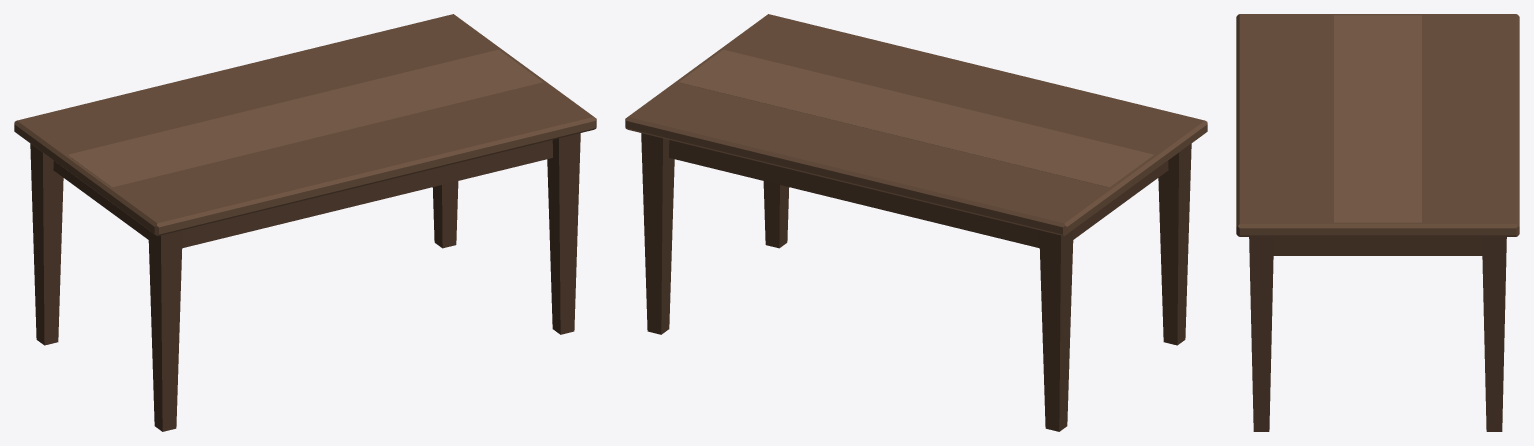
Rendered from table_cuisine.glb.
3 renders of one model, left to right at view 1: azimuth 30°, elevation 25°; view 2: azimuth 150°, elevation 25°; view 3: azimuth 270°, elevation 25°, orthographic.
Parts seen in each view (by area): view 1: top, plank, apron, leg, leg_r, leg_b, leg_rb; view 2: top, plank, apron, leg_b, leg_rb, leg, leg_r; view 3: top, plank, leg_r, leg_rb, apron.
Part boxes in pixels (bbox=[...]): top: bbox=[14, 14, 596, 236]; plank: bbox=[68, 49, 542, 187]; apron: bbox=[53, 140, 552, 248]; leg: bbox=[148, 230, 182, 431]; leg_r: bbox=[547, 133, 580, 334]; leg_b: bbox=[30, 143, 63, 345]; leg_rb: bbox=[432, 181, 458, 248]; top: bbox=[625, 14, 1207, 236]; plank: bbox=[679, 49, 1153, 187]; apron: bbox=[669, 140, 1168, 248]; leg_b: bbox=[1039, 230, 1073, 431]; leg_rb: bbox=[641, 133, 674, 334]; leg: bbox=[1158, 143, 1191, 345]; leg_r: bbox=[763, 181, 789, 248]; top: bbox=[1236, 14, 1519, 236]; plank: bbox=[1334, 15, 1421, 222]; leg_r: bbox=[1249, 237, 1273, 431]; leg_rb: bbox=[1482, 237, 1506, 431]; apron: bbox=[1273, 237, 1482, 255].
Bounding box in the file's own units: 1.6 × 0.7505 × 0.9.
Materials: 3 (3 with a texture image).
